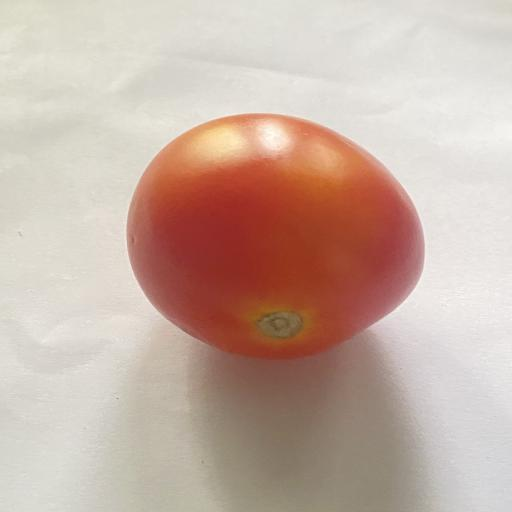ripe: (127, 114, 424, 359)
